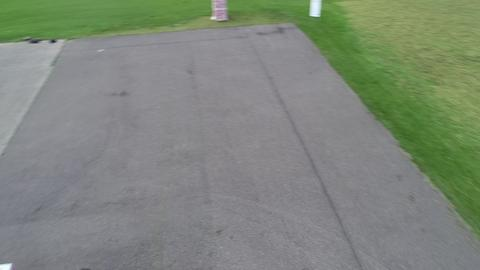RockwoolPallet: (211, 1, 230, 23)
